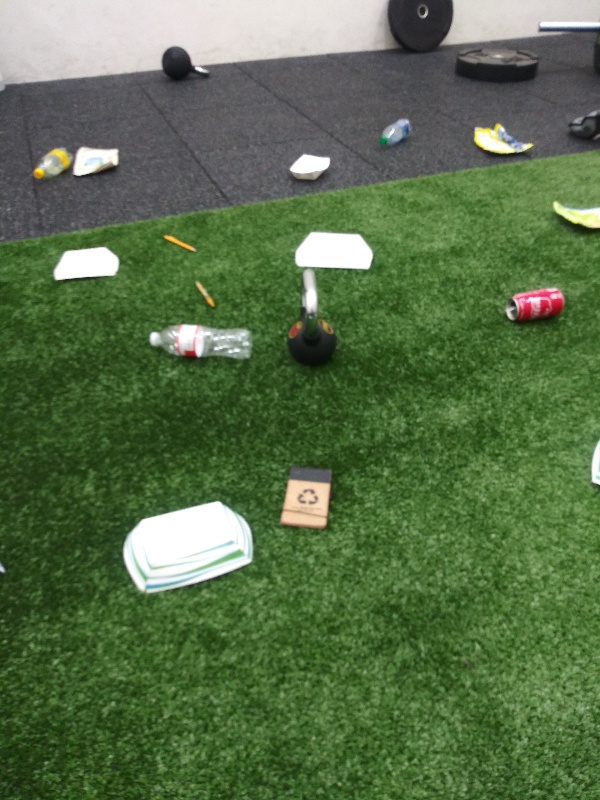bag: (470, 120, 537, 158), (548, 197, 600, 239), (72, 143, 120, 180)
bottle: (141, 322, 255, 368), (29, 139, 79, 189), (376, 113, 419, 150)
can: (499, 287, 570, 330)
plate: (122, 499, 257, 597), (290, 226, 377, 275), (46, 243, 126, 285), (285, 153, 335, 183)
